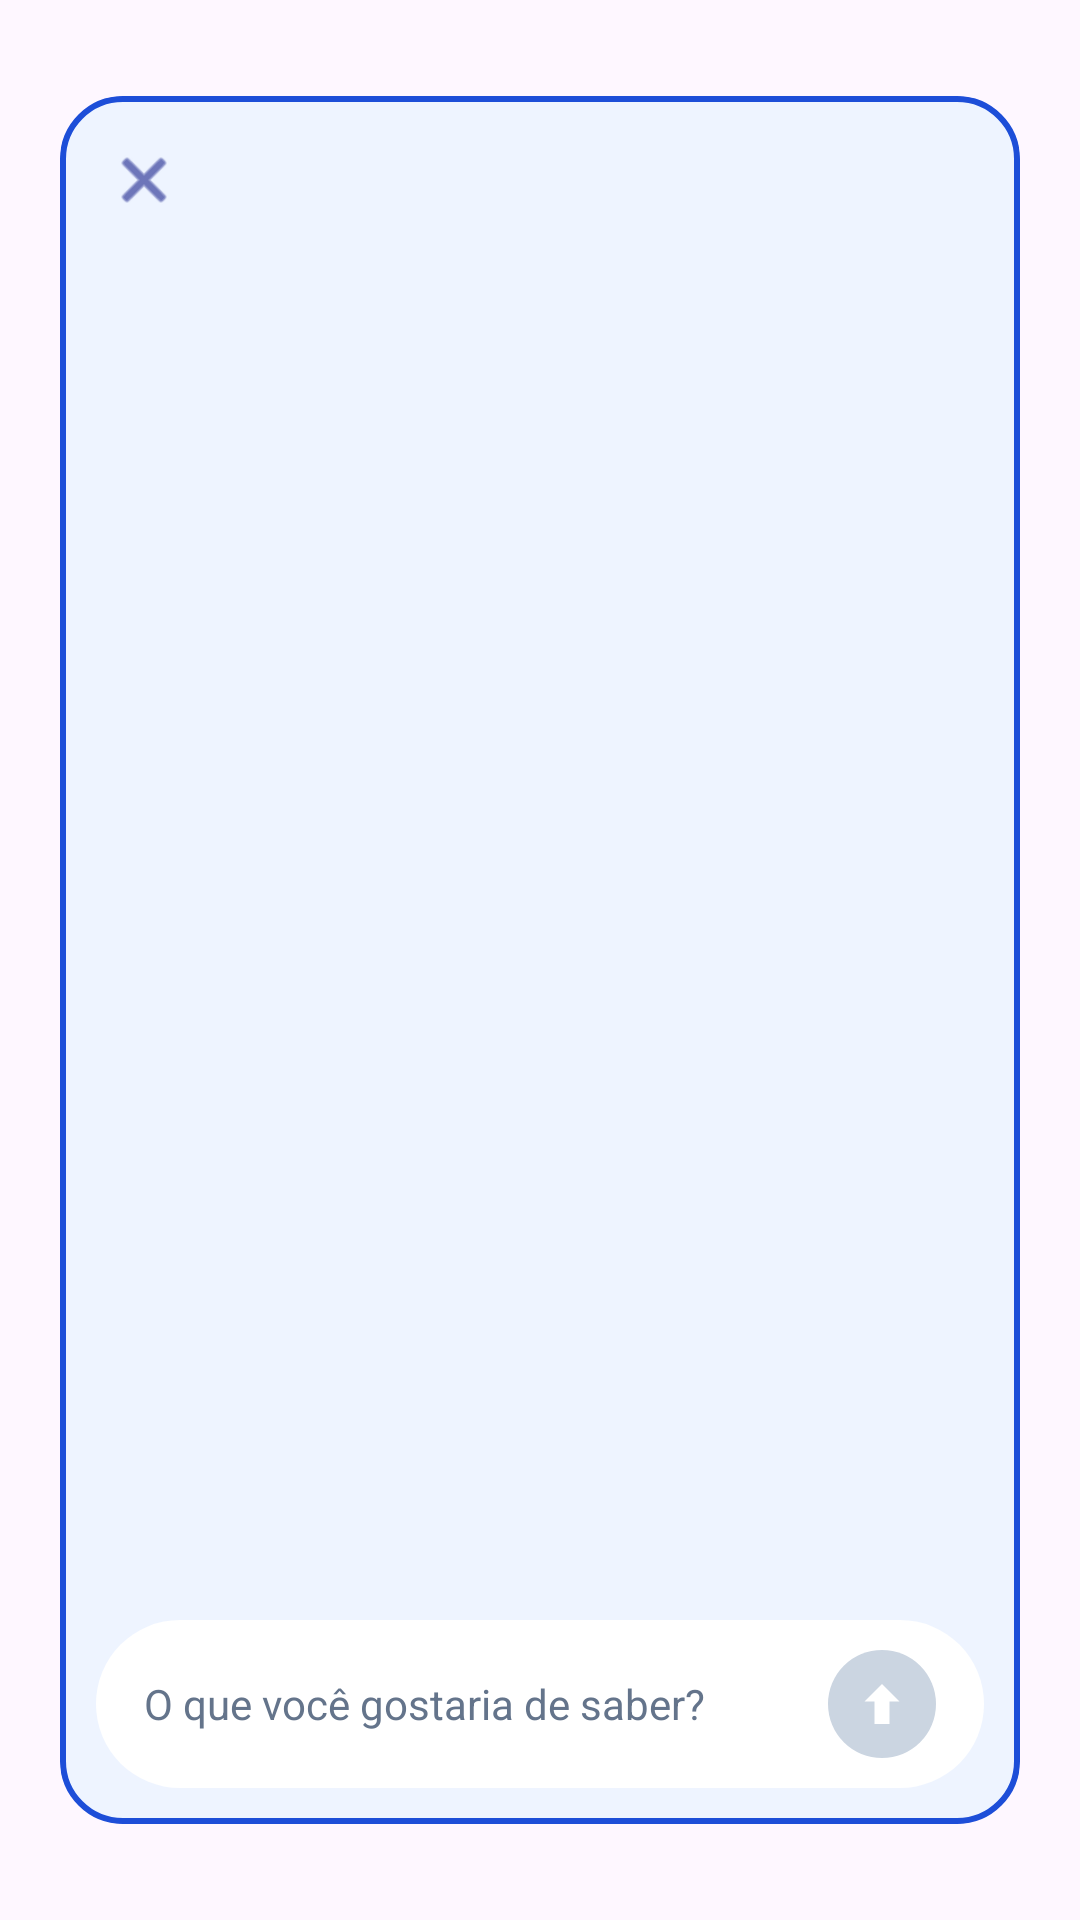

Point at icon controls on the screen. Image size 1080*1920, points as [x,y].
Enviar: [882,1704]
Fechar: [144,180]
